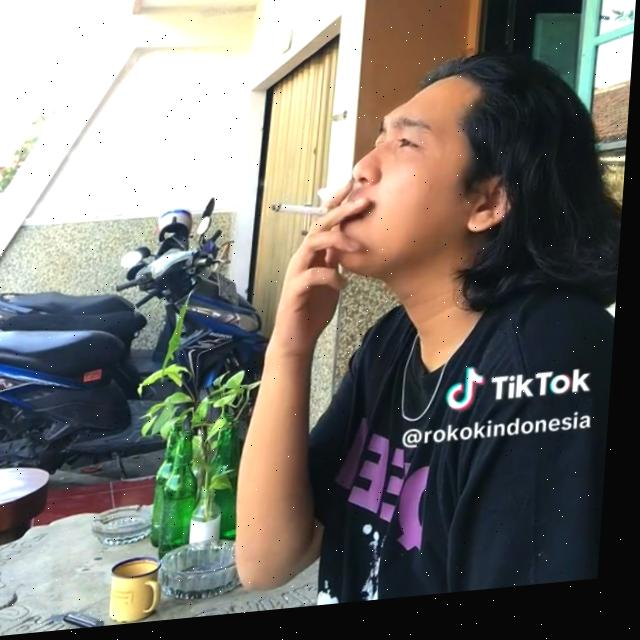cigarette: (273, 205, 331, 227)
